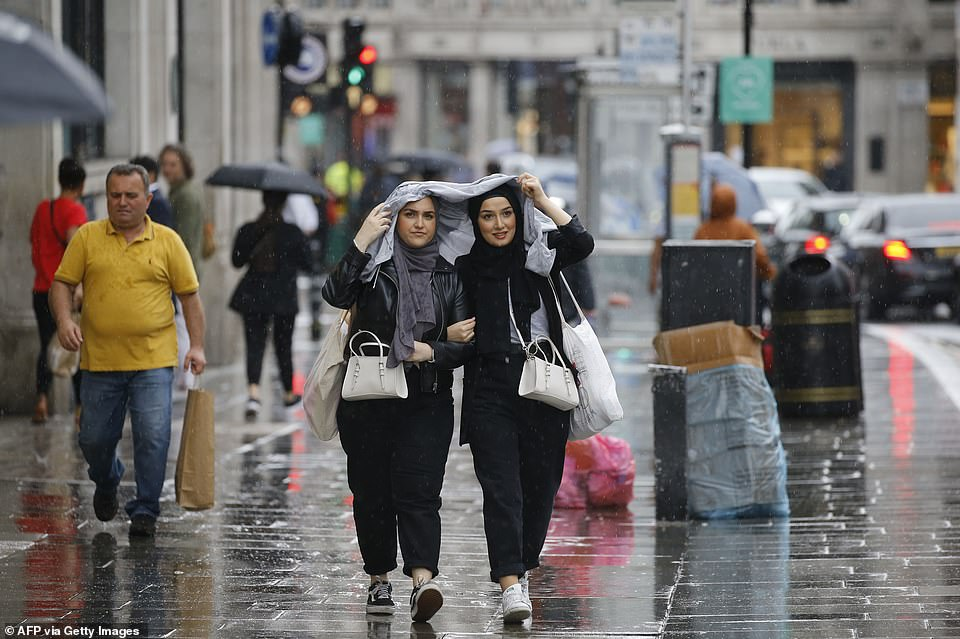person: (306, 174, 482, 626), (40, 154, 228, 549), (446, 173, 607, 629), (216, 157, 324, 426), (17, 147, 98, 409), (151, 147, 223, 267)
